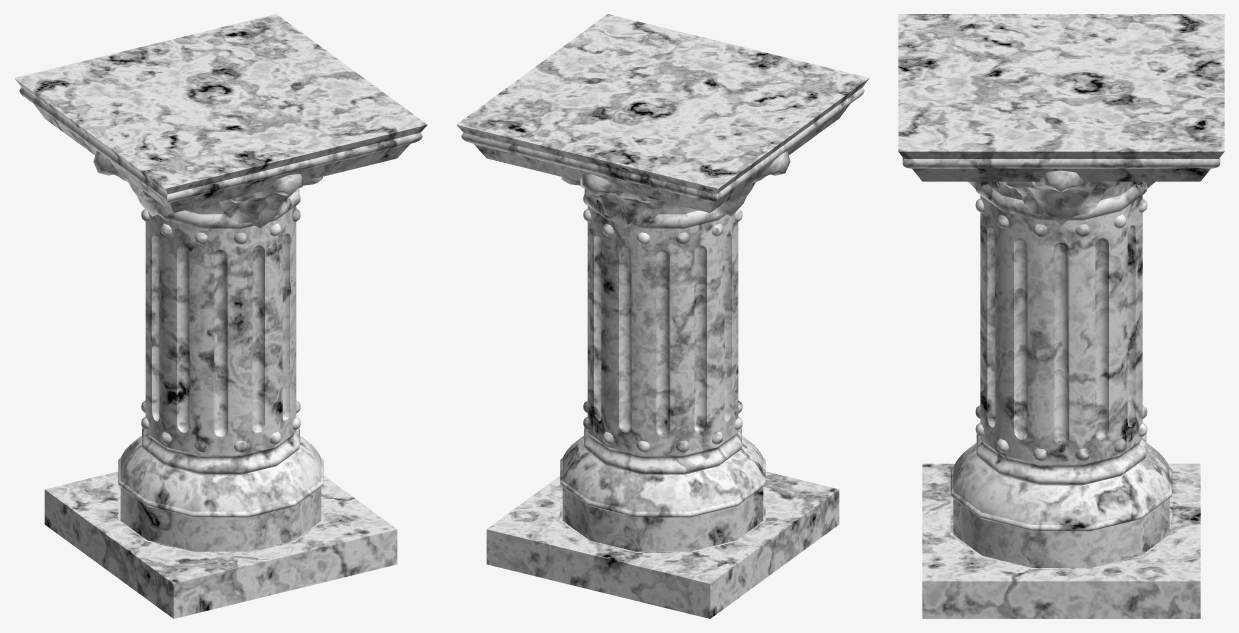
The picture shows the model from 3 angles, left to right: view 1: azimuth 30°, elevation 25°; view 2: azimuth 150°, elevation 25°; view 3: azimuth 270°, elevation 25°; orthographic projection. The views are drawn at different scales.
Parts seen in each view (by area): view 1: Pedestal; view 2: Pedestal; view 3: Pedestal.
Boxes of the visible parts, x1,y1,x2,y2 form: Pedestal: (14, 14, 427, 618); Pedestal: (456, 14, 869, 618); Pedestal: (898, 14, 1224, 618).
Bounding box in the file's own units: 0.7338 × 1.19 × 0.7338.
Materials: 1 (1 with a texture image).
